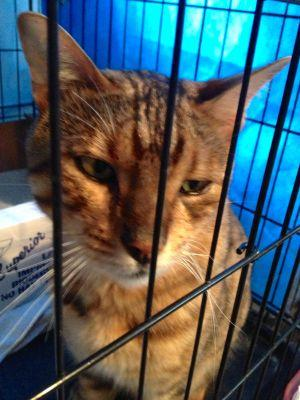bengal: (6, 1, 292, 284)
